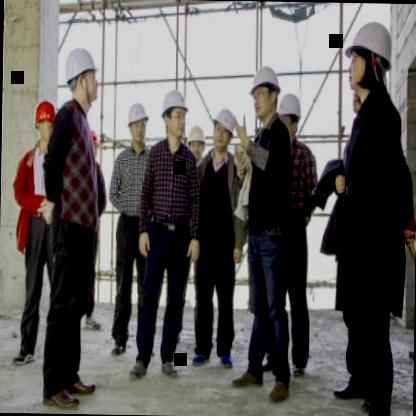helmet: (342, 16, 391, 107), (60, 37, 100, 108), (248, 69, 282, 122), (274, 90, 302, 146), (158, 92, 188, 144), (210, 104, 237, 158), (122, 96, 150, 148), (30, 98, 57, 151), (182, 124, 208, 166)
